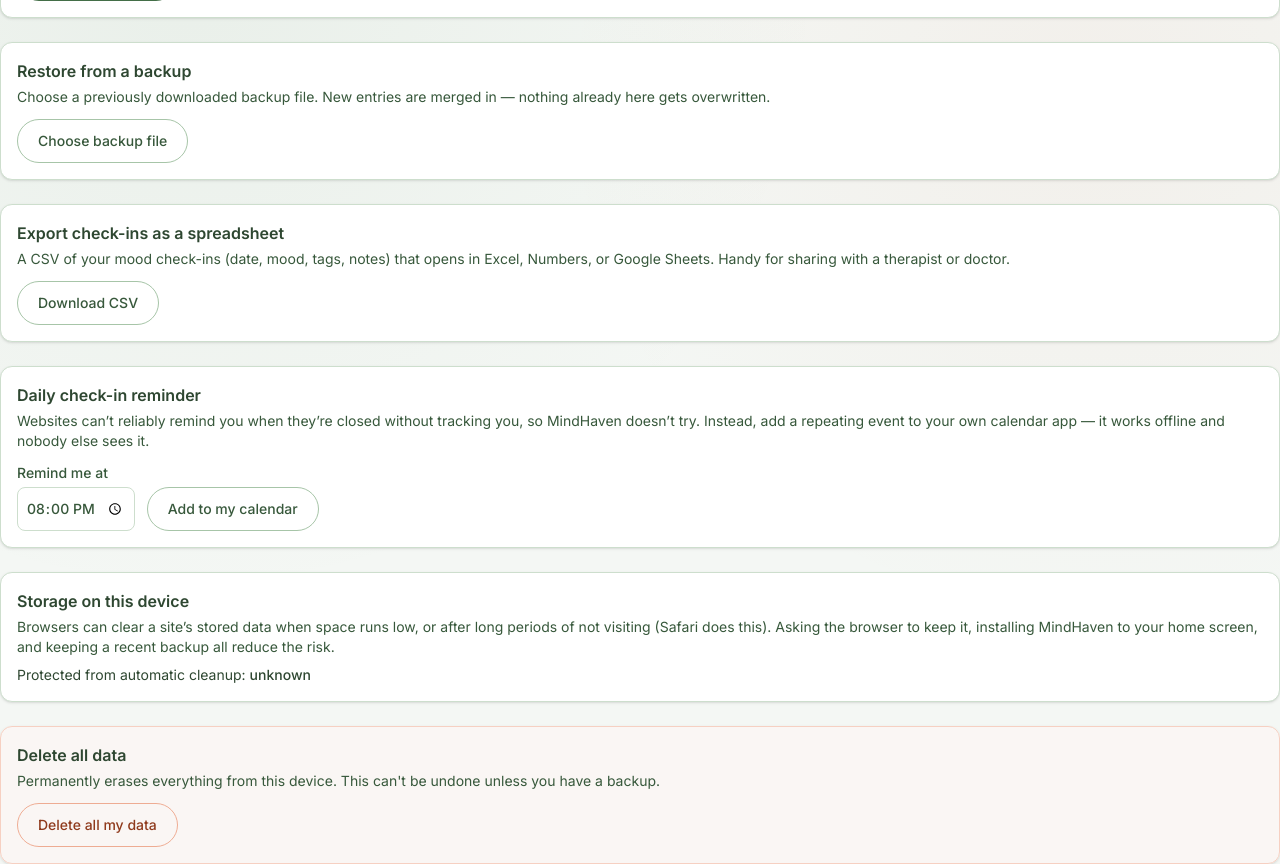
Settings: delete everything › disarms if focus moves away, so a stray tap cannot leave it loaded
This screenshot has width=1280, height=864.
(page scrolled)
Step 1. Click the button "Delete all my data" → x=97, y=825, box [17,803,178,847]
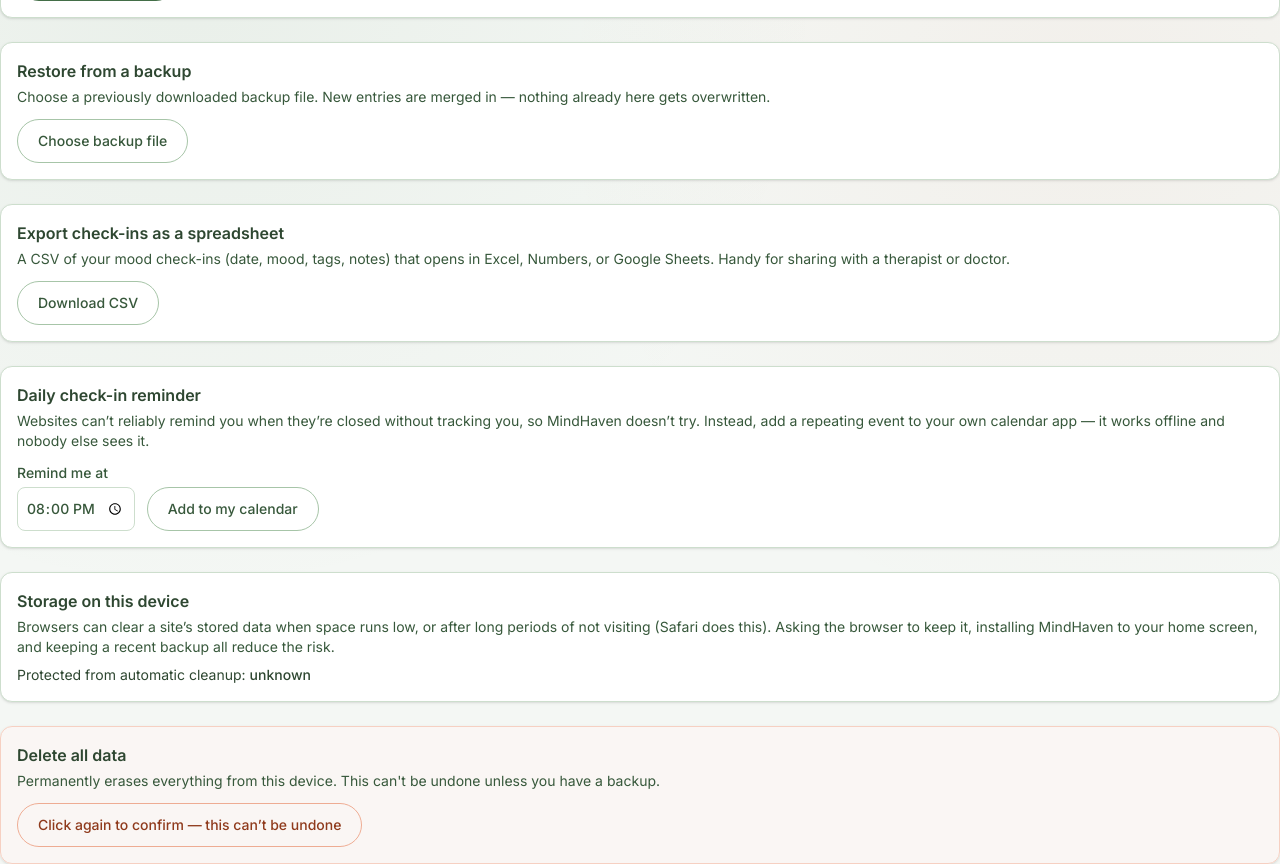
Step 2. Leave the button "Click again to confirm — this can’t be undone", box [17,803,362,847]
(page scrolled)
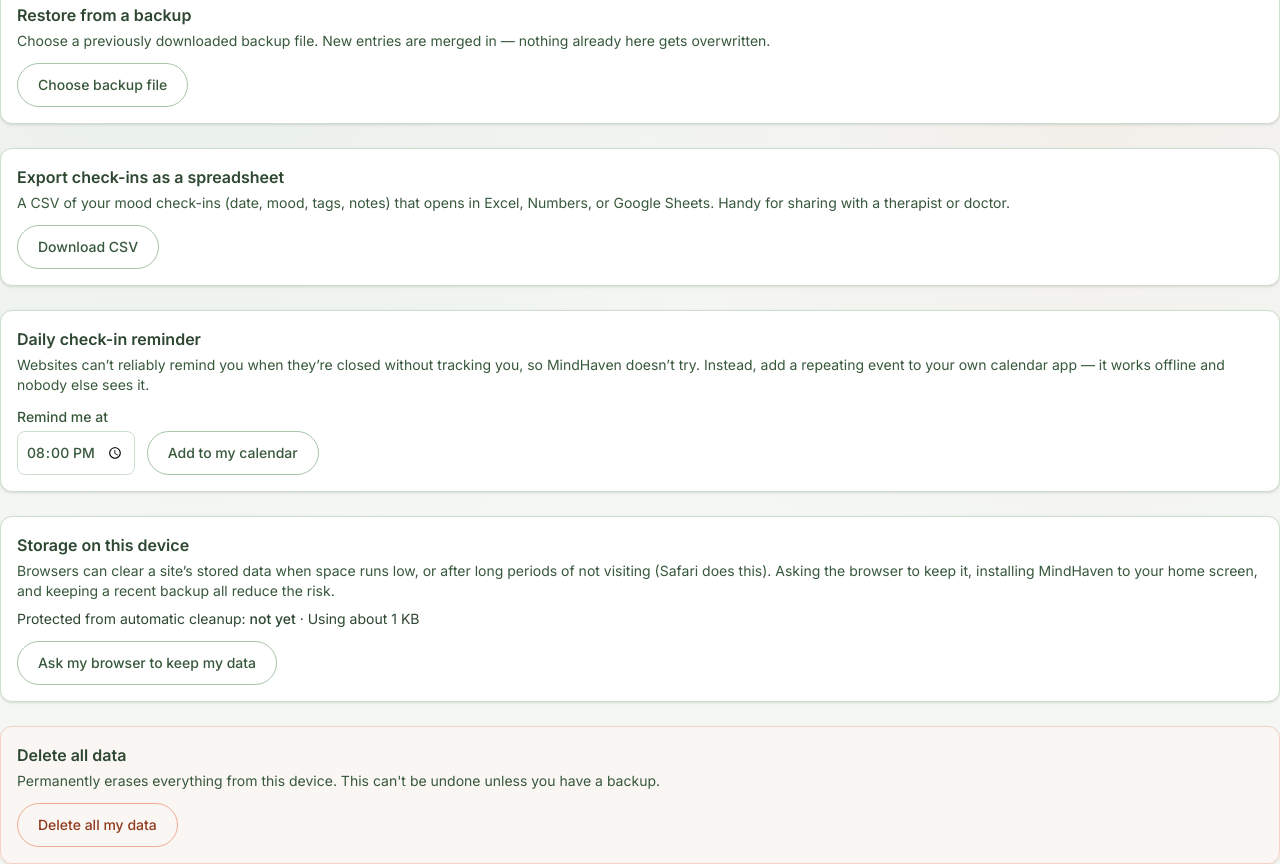
Check: the button "Delete all my data" is shown, box [17,803,178,847]
